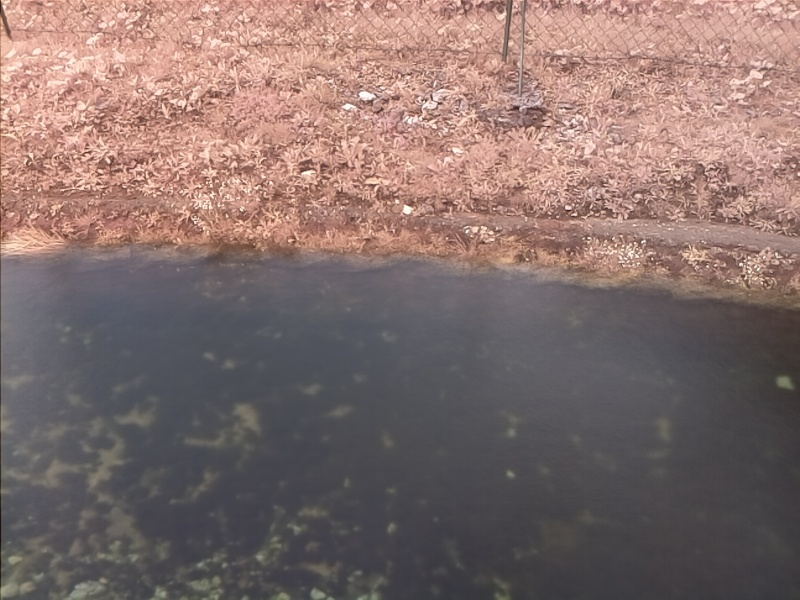Water: (1, 248, 798, 600)
